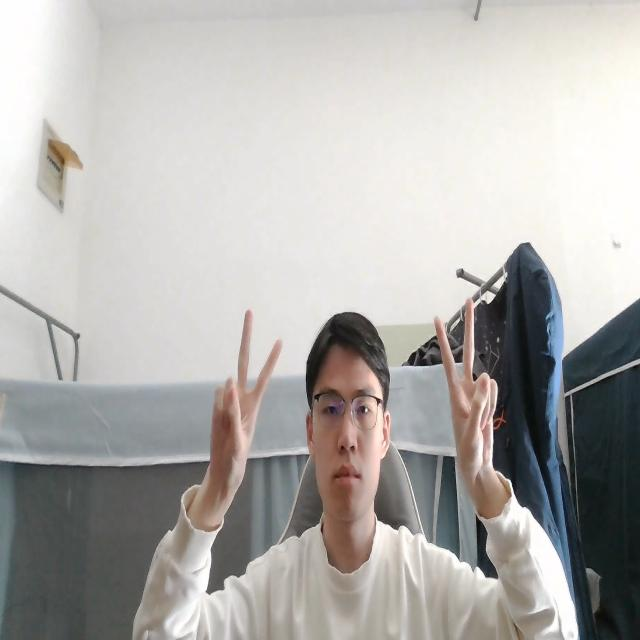yes: (195, 299, 285, 519), (434, 296, 503, 498)
